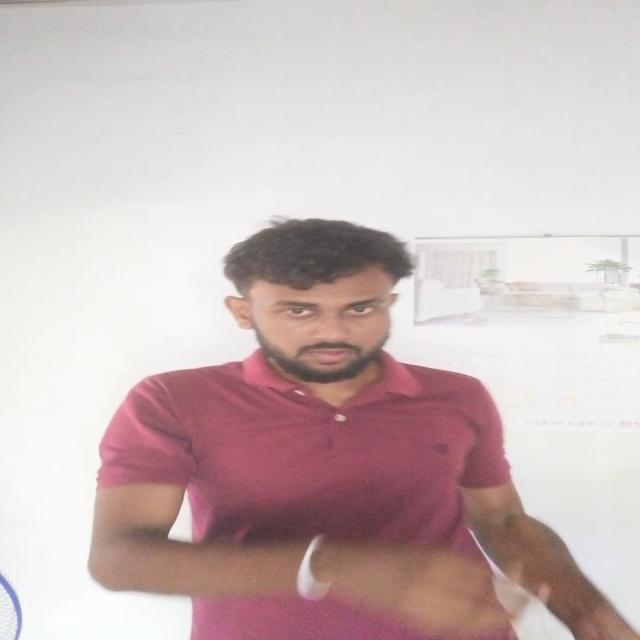Person: (84, 216, 638, 640)
